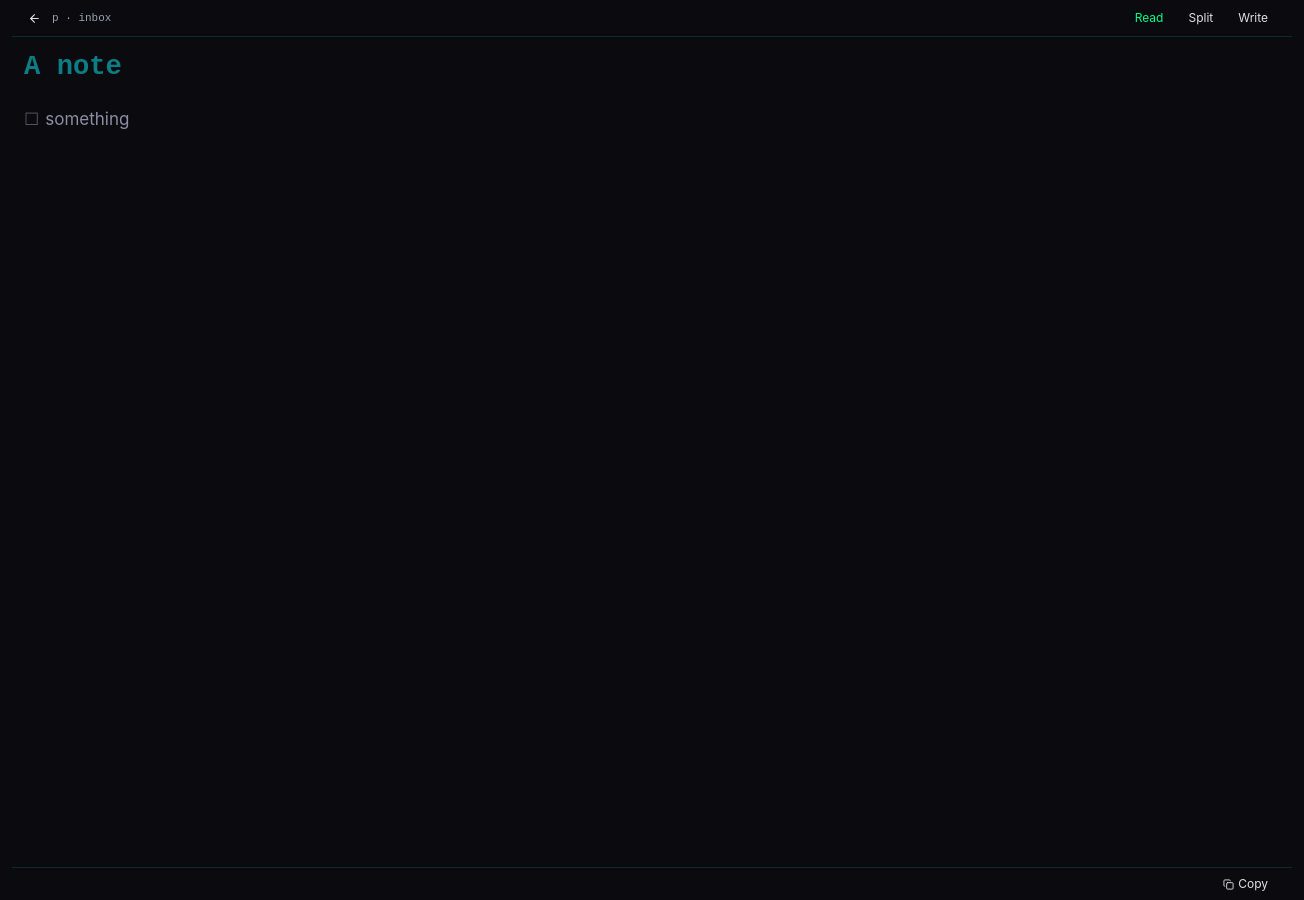
NotesView › offers three lenses and says which one you are in
The width and height of the screenshot is (1304, 900).
Check: the text "A note" is shown, box [24,51,122,82]
Click the button "Write". click: (1253, 18)
box: [1226,6,1280,30]
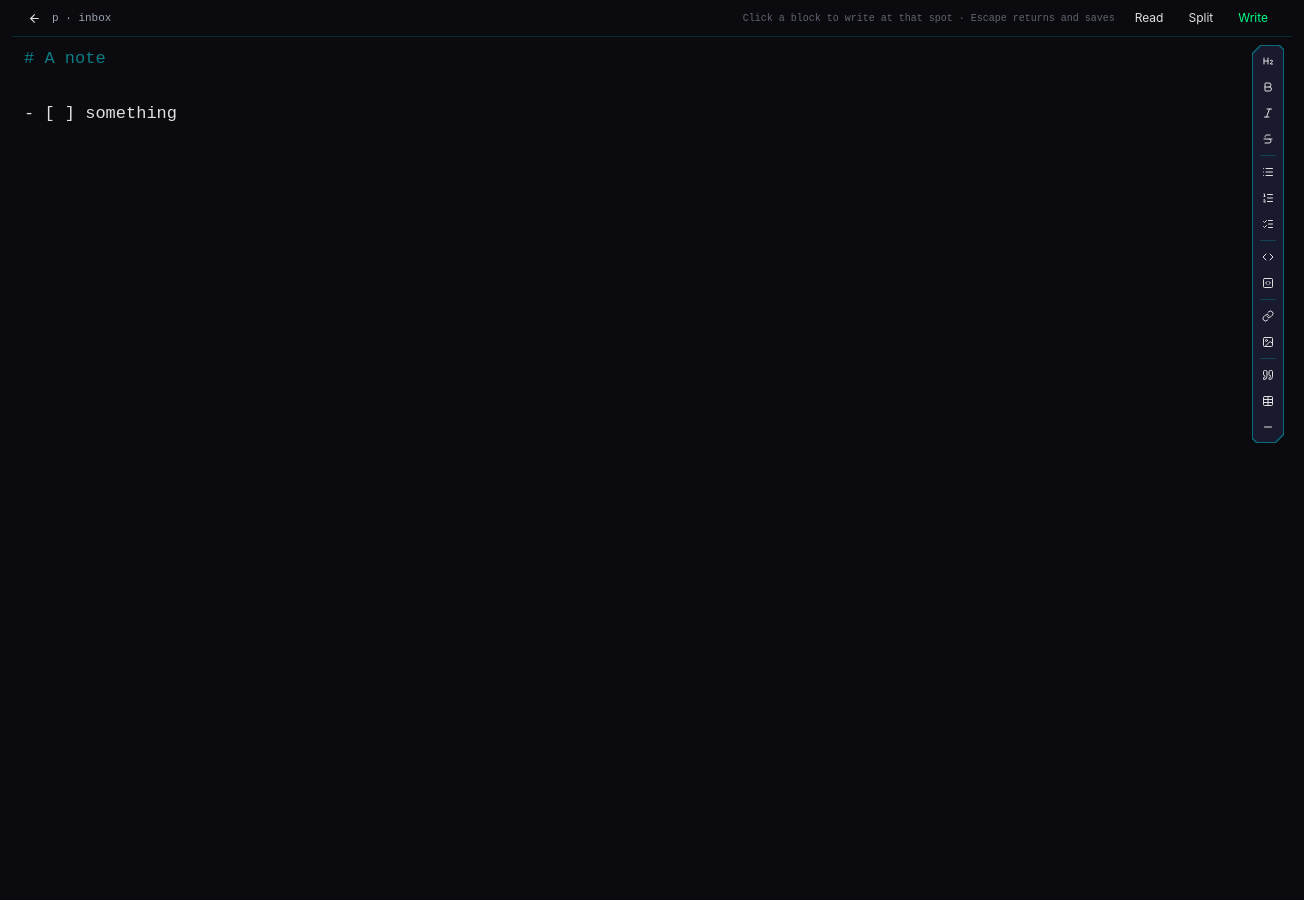
Check: the text box named "Note text" is shown
